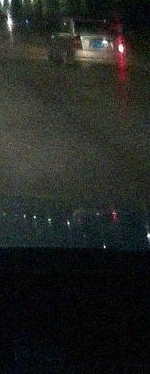L_light: (72, 35, 83, 50)
R_light: (116, 35, 126, 52)
T_light: (90, 21, 102, 23)
night-right: (72, 19, 127, 68)
